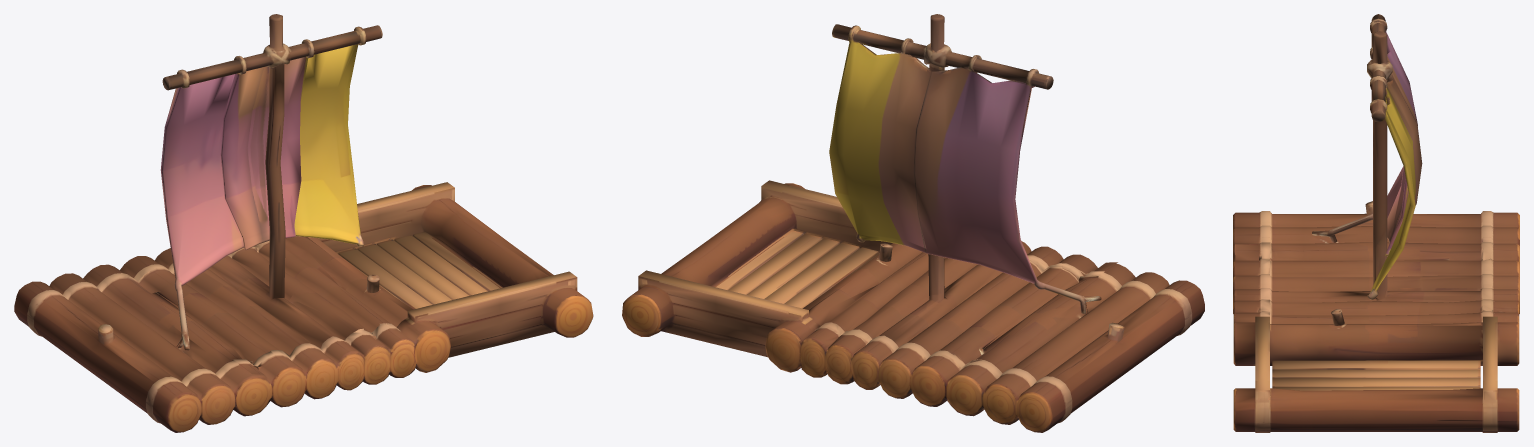
Rendered from velero para usar.fbx.
The picture shows the model from 3 angles, left to right: view 1: azimuth 30°, elevation 25°; view 2: azimuth 150°, elevation 25°; view 3: azimuth 270°, elevation 25°; orthographic projection. The views are drawn at different scales.
Parts seen in each view (by area): view 1: mesh_rep_0_ori_repair_quad; view 2: mesh_rep_0_ori_repair_quad; view 3: mesh_rep_0_ori_repair_quad.
Part boxes in pixels (box(x1,y1,x2,y2)): mesh_rep_0_ori_repair_quad: box(14, 14, 593, 432); mesh_rep_0_ori_repair_quad: box(622, 14, 1204, 432); mesh_rep_0_ori_repair_quad: box(1233, 14, 1519, 432).
Bounding box in the file's own units: 1126 × 801 × 700.
Materials: 1 (1 with a texture image).
